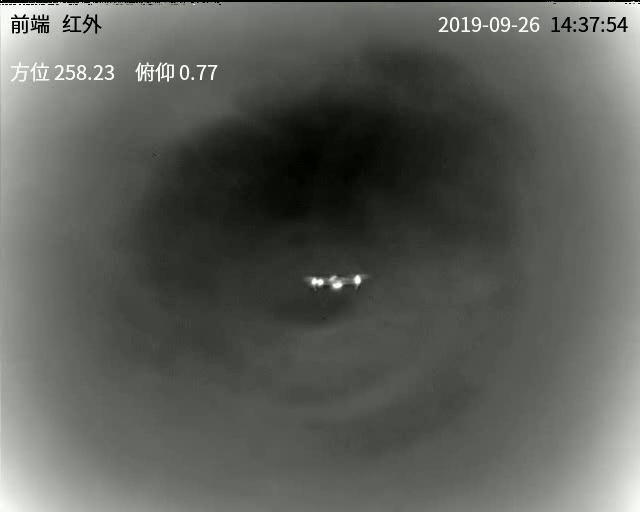DRONE: (308, 271, 367, 295)
